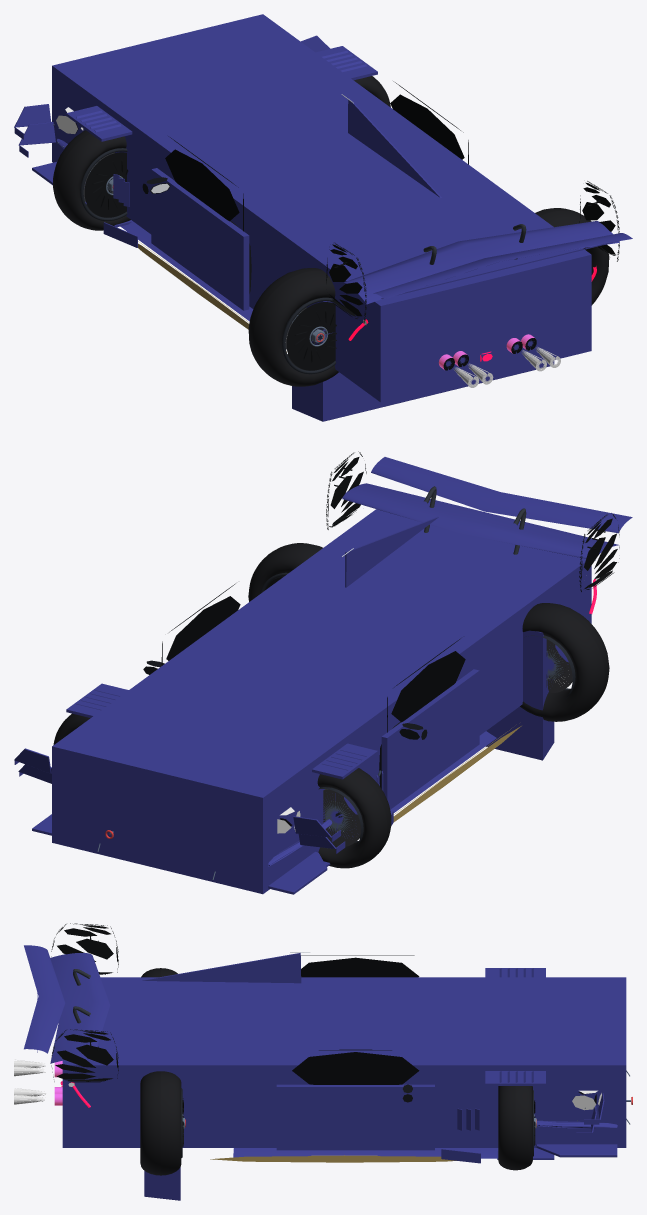
Rendered from vehicle_cyber_interceptor_pursuit.glb.
3 renders of one model, top to bottom at view 1: azimuth 30°, elevation 25°; view 2: azimuth 150°, elevation 25°; view 3: azimuth 270°, elevation 25°, orthographic. The views are drawn at different scales.
Parts seen in each view (by area): view 1: ACTIVE_GURNEY_FLAP_LIP, MICHELIN_CUP_2R_TRACK_TIRE.002, DOOR_CONTENT_MESHES, MICHELIN_CUP_2R_TRACK_TIRE, AERO_TURBOFAN_COVER.002, AERODYNAMIC_ENDPLATE_ASSEMBLY, AERO_TURBOFAN_COVER, QUAD_EXHAUST_INCONEL_TITANIUM_ASSEMBLY, MICHELIN_CUP_2R_TRACK_TIRE.003, SEALING_SKIRT_LEFT, FORGED_MAGNESIUM_RIM.002, FORGED_MAGNESIUM_RIM; view 2: ACTIVE_GURNEY_FLAP_LIP, MICHELIN_CUP_2R_TRACK_TIRE.002, DOOR_CONTENT_MESHES, MICHELIN_CUP_2R_TRACK_TIRE, AERODYNAMIC_ENDPLATE_ASSEMBLY, MICHELIN_CUP_2R_TRACK_TIRE.003, FLOATING_CSIC_BRAKE_ROTOR, SEALING_SKIRT_LEFT, FLOATING_CSIC_BRAKE_ROTOR.002, FORGED_MAGNESIUM_RIM; view 3: ACTIVE_GURNEY_FLAP_LIP, DOOR_CONTENT_MESHES, MICHELIN_CUP_2R_TRACK_TIRE.003, AERODYNAMIC_ENDPLATE_ASSEMBLY, MICHELIN_CUP_2R_TRACK_TIRE.001, SEALING_SKIRT_LEFT, QUAD_EXHAUST_INCONEL_TITANIUM_ASSEMBLY, FRONT_MATRIX_HEADLIGHT_CLUSTER.
Part boxes in pixels (<box>): ACTIVE_GURNEY_FLAP_LIP: <box>14,14,632,421</box>; MICHELIN_CUP_2R_TRACK_TIRE.002: <box>248,268,338,386</box>; DOOR_CONTENT_MESHES: <box>142,81,468,293</box>; MICHELIN_CUP_2R_TRACK_TIRE: <box>53,130,130,230</box>; AERO_TURBOFAN_COVER.002: <box>286,302,336,370</box>; AERODYNAMIC_ENDPLATE_ASSEMBLY: <box>326,181,619,323</box>; AERO_TURBOFAN_COVER: <box>84,152,128,217</box>; QUAD_EXHAUST_INCONEL_TITANIUM_ASSEMBLY: <box>438,334,560,387</box>; MICHELIN_CUP_2R_TRACK_TIRE.003: <box>535,208,609,305</box>; SEALING_SKIRT_LEFT: <box>138,241,286,352</box>; FORGED_MAGNESIUM_RIM.002: <box>282,297,335,374</box>; FORGED_MAGNESIUM_RIM: <box>80,148,127,221</box>; ACTIVE_GURNEY_FLAP_LIP: <box>14,457,632,894</box>; MICHELIN_CUP_2R_TRACK_TIRE.002: <box>520,603,609,721</box>; DOOR_CONTENT_MESHES: <box>143,583,465,788</box>; MICHELIN_CUP_2R_TRACK_TIRE: <box>317,768,391,868</box>; AERODYNAMIC_ENDPLATE_ASSEMBLY: <box>326,451,619,591</box>; MICHELIN_CUP_2R_TRACK_TIRE.003: <box>248,543,322,601</box>; FLOATING_CSIC_BRAKE_ROTOR: <box>323,789,360,846</box>; SEALING_SKIRT_LEFT: <box>393,726,521,822</box>; FLOATING_CSIC_BRAKE_ROTOR.002: <box>546,639,572,692</box>; FORGED_MAGNESIUM_RIM: <box>318,787,363,850</box>; ACTIVE_GURNEY_FLAP_LIP: <box>24,945,626,1200</box>; DOOR_CONTENT_MESHES: <box>292,955,419,1102</box>; MICHELIN_CUP_2R_TRACK_TIRE.003: <box>140,1071,181,1175</box>; AERODYNAMIC_ENDPLATE_ASSEMBLY: <box>51,923,118,1082</box>; MICHELIN_CUP_2R_TRACK_TIRE.001: <box>498,1086,532,1170</box>; SEALING_SKIRT_LEFT: <box>210,1155,456,1162</box>; QUAD_EXHAUST_INCONEL_TITANIUM_ASSEMBLY: <box>14,1059,62,1105</box>; FRONT_MATRIX_HEADLIGHT_CLUSTER: <box>68,1082,601,1110</box>.
Bounding box in the file's own units: 2.75 × 1.71 × 4.89.
